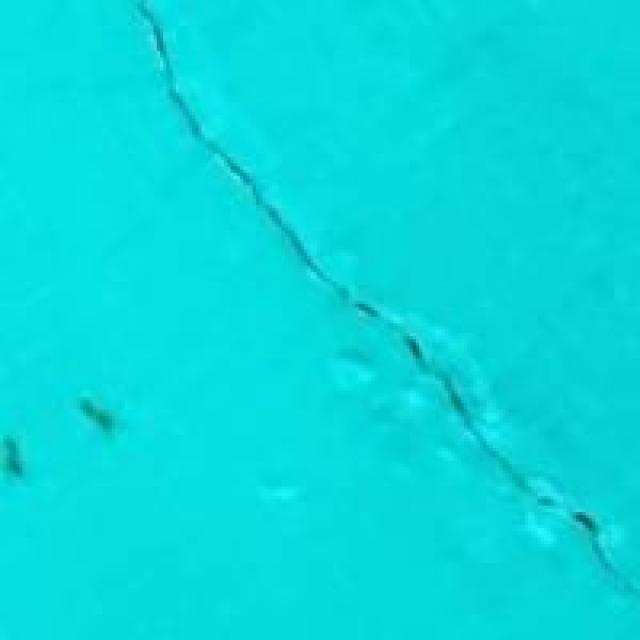crack: (150, 10, 612, 531)
